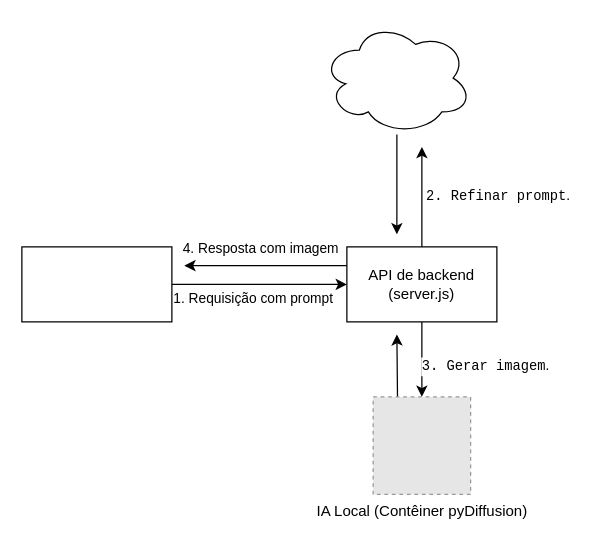
The diagram is 591 pixels wide and 543 high, and some of its shapes have lost their labels. Grey dashed boxes stand in for pictures. The centre of each missing label's shape, as x and y in pixels:
IA Remota (API Externa): the point at 396,77
Interface Web (Navegador): the point at 96,284
